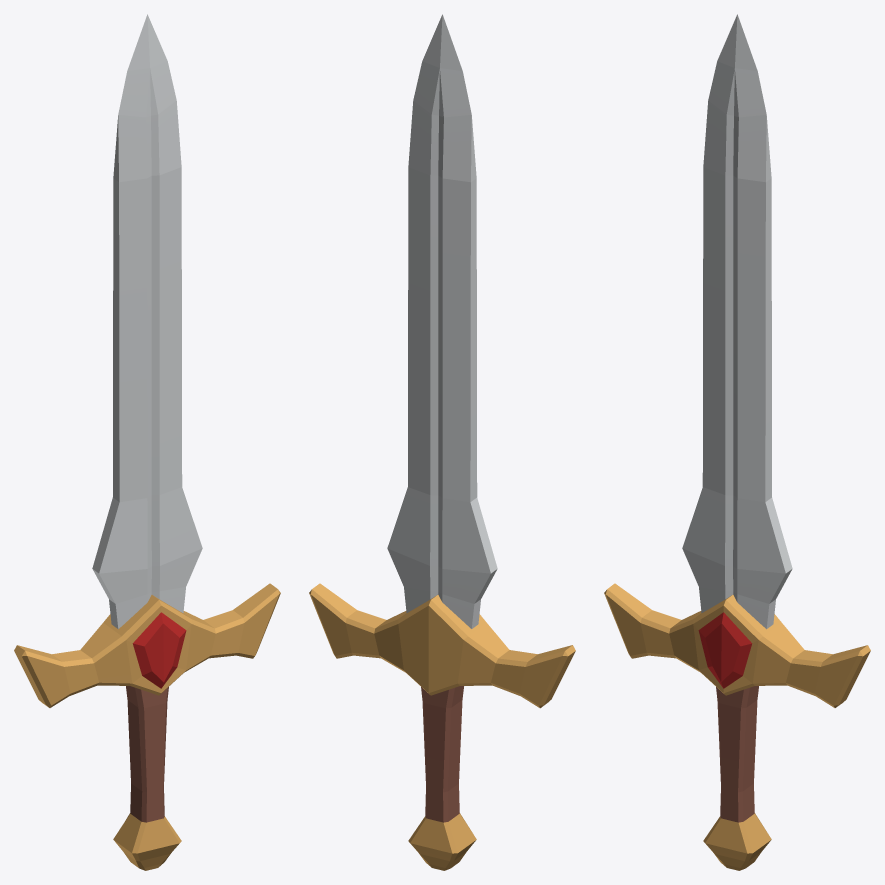
The model's file is Sword_G.fbx.
3 renders of one model, left to right at view 1: azimuth 30°, elevation 25°; view 2: azimuth 150°, elevation 25°; view 3: azimuth 330°, elevation 25°, orthographic.
Parts seen in each view (by area): view 1: Sword_G; view 2: Sword_G; view 3: Sword_G.
Part boxes in pixels (x1,y1,x2,y2): Sword_G: (14,14,280,870); Sword_G: (309,14,575,870); Sword_G: (604,14,870,870).
Bounding box in the file's own units: 31.2 × 98 × 6.28.
